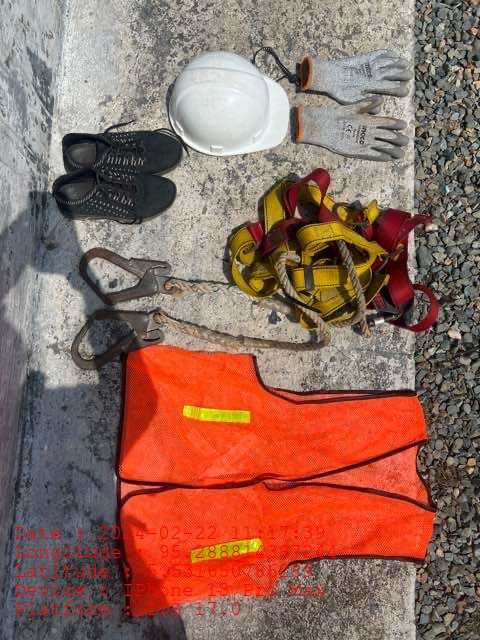HELM: (169, 53, 290, 152)
ROMPI: (123, 348, 431, 590)
SARUNG TANGAN: (297, 56, 411, 162)
SEPATU: (54, 133, 176, 222)
